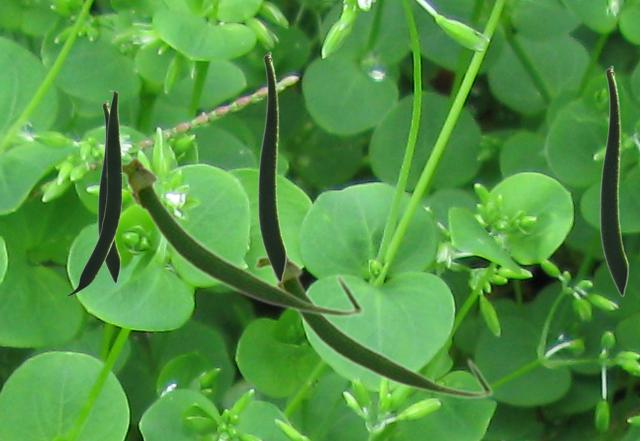french_bean: (104, 154, 364, 318), (252, 251, 493, 399), (65, 90, 121, 295), (599, 65, 628, 296), (257, 51, 286, 282), (97, 100, 120, 283)
